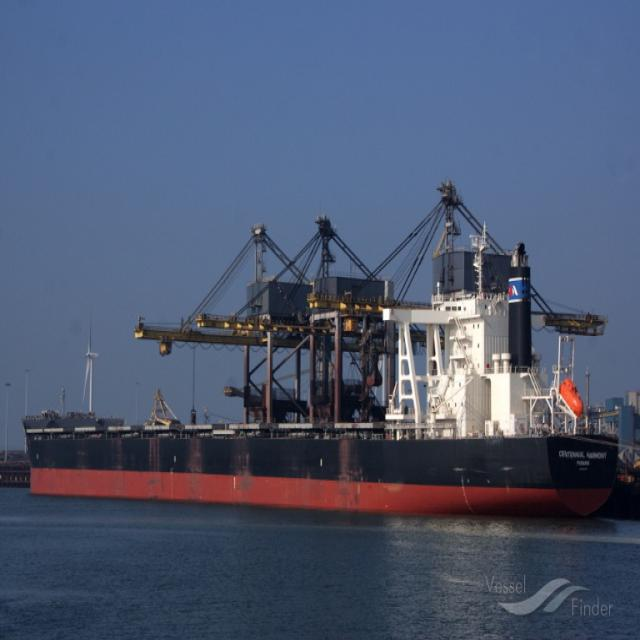OCR: (555, 445, 613, 460)
